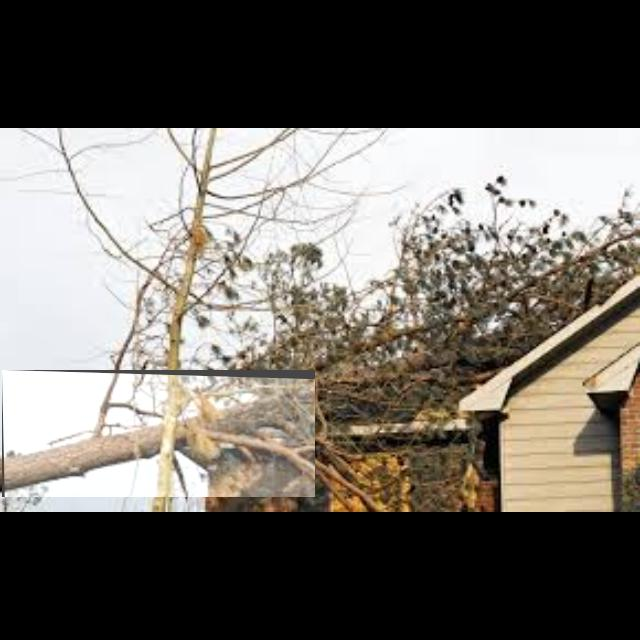Fallen Tree: (2, 370, 316, 498)
